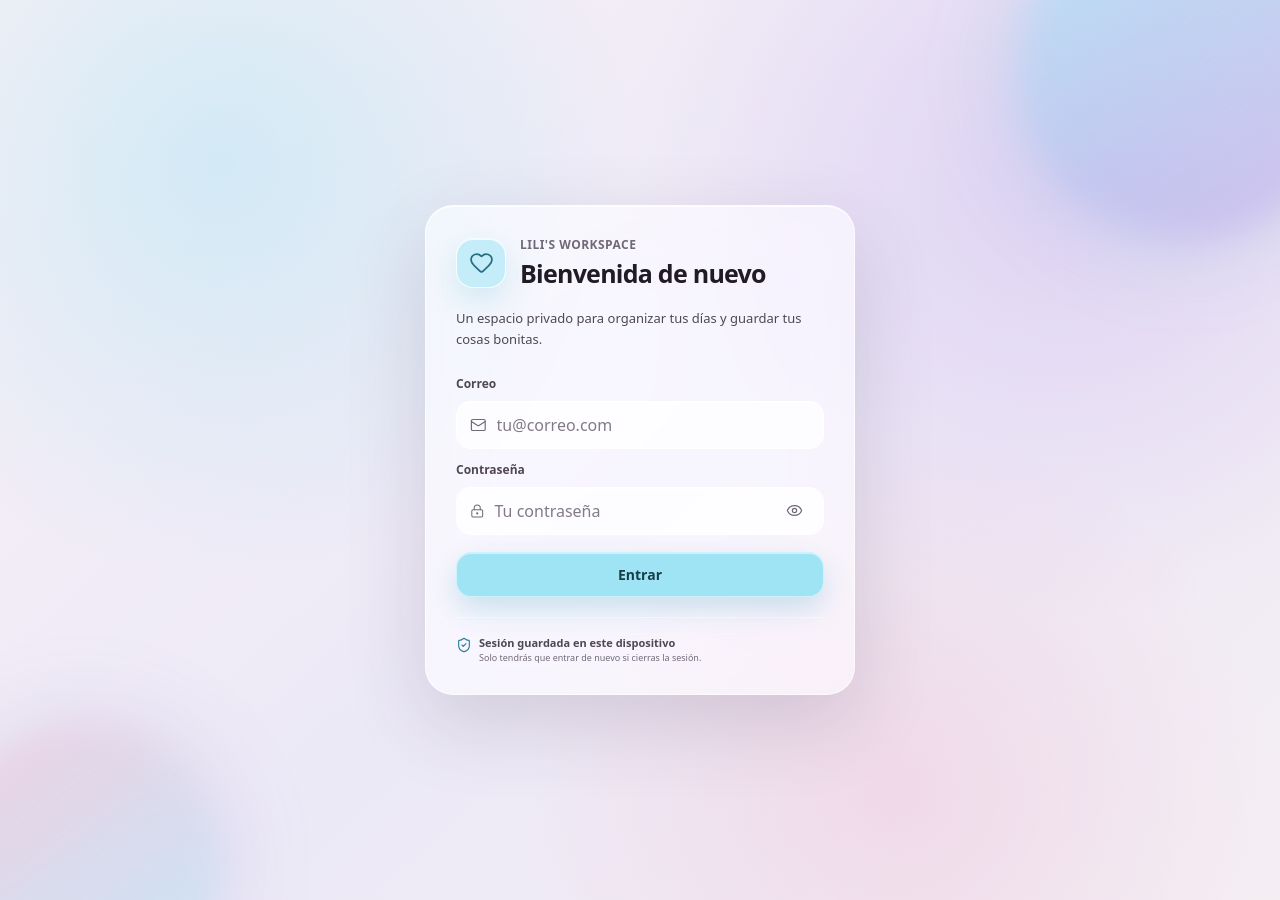
Test: Acceso privado › inicia sesión con correo y contraseña y muestra el área privada
Check: the heading "Bienvenida de nuevo" is shown, box top-left (520, 256), bottom-right (766, 290)
Check: the text "Sesión guardada en este dispositivo" is shown, box top-left (479, 634), bottom-right (701, 650)
Type "lili@example.com" into the field labelled "Correo" at (653, 424), box top-left (497, 402), bottom-right (810, 448)
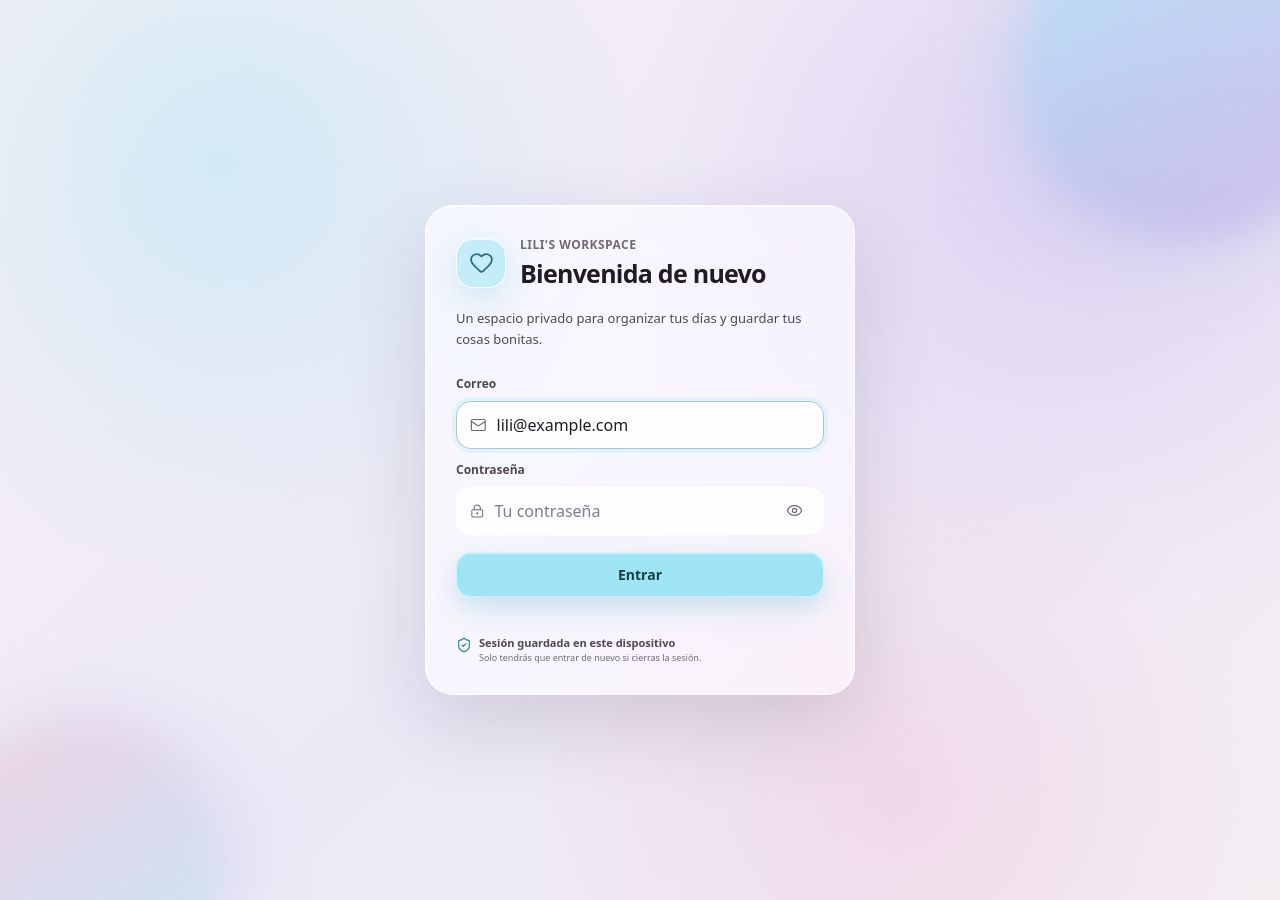
Type "una-clave-segura" into the password field labelled "Contraseña" at (631, 510), box top-left (494, 488), bottom-right (768, 534)
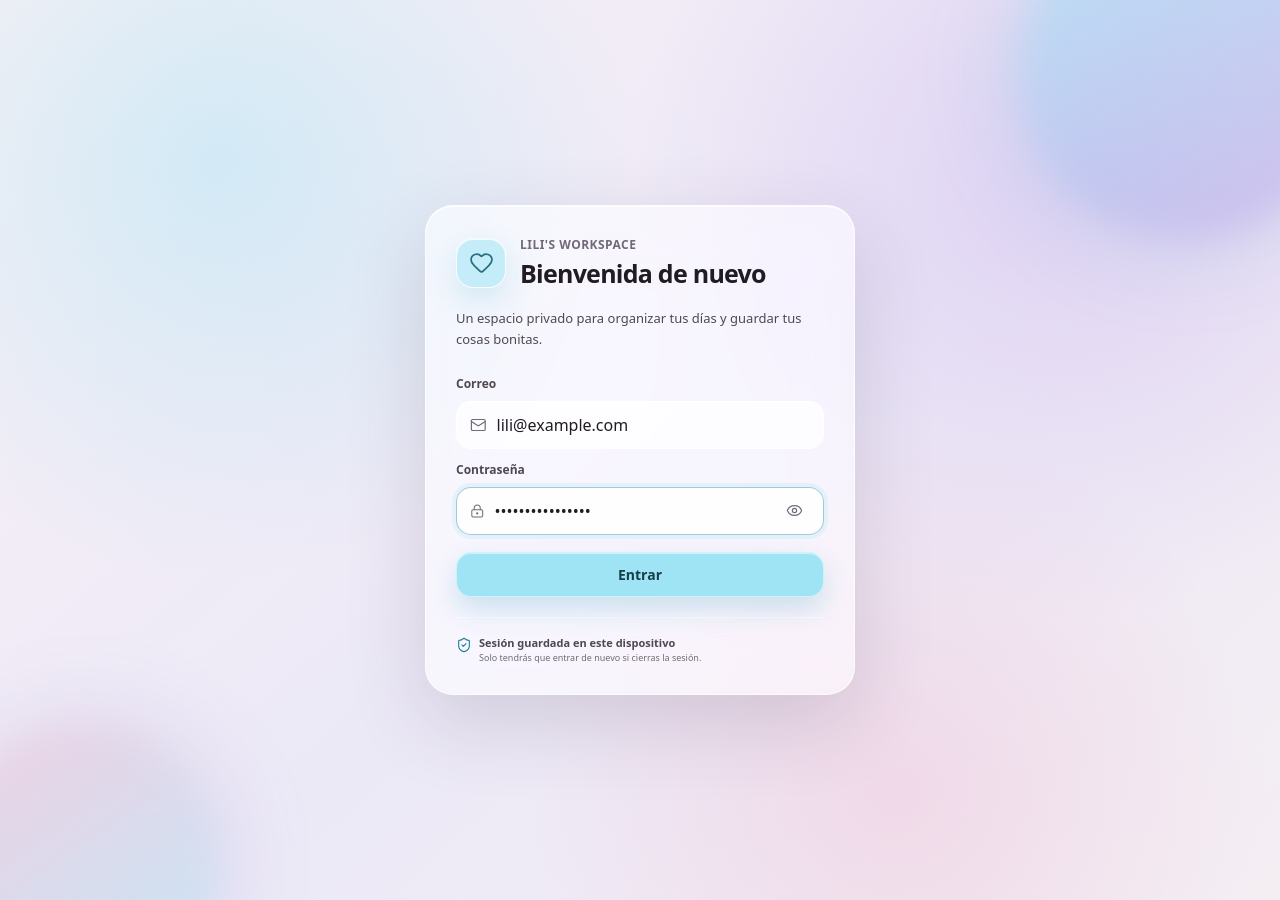
Click the button "Entrar" at (640, 574), box top-left (456, 552), bottom-right (824, 596)
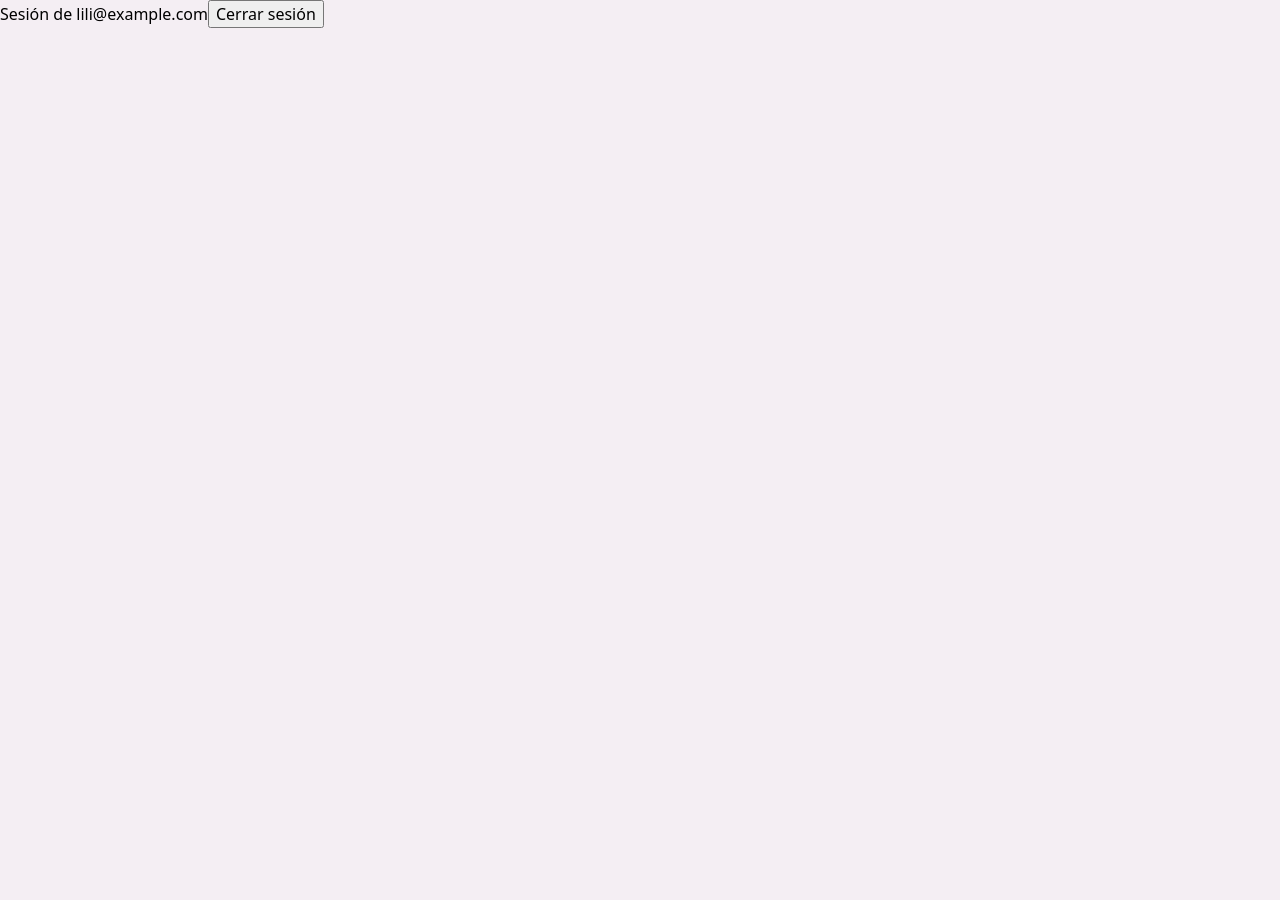
Check: the text "Sesión de lili@example.com" is shown, box top-left (0, 3), bottom-right (208, 25)
